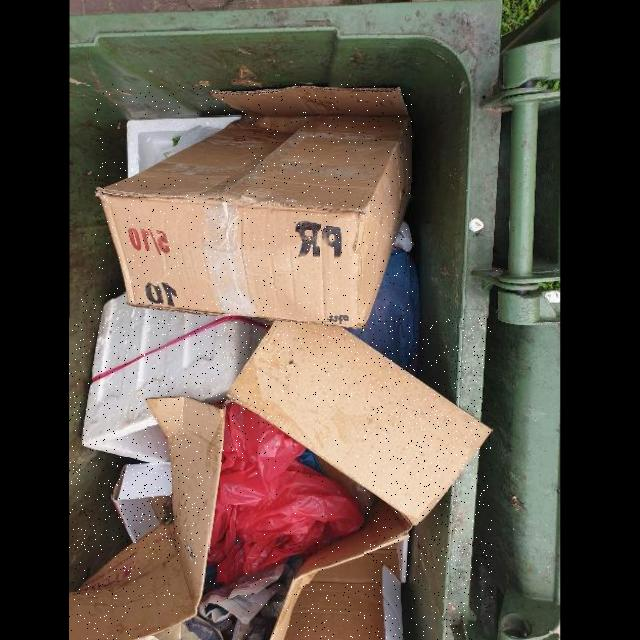paper: (69, 318, 492, 640), (96, 84, 413, 328), (136, 563, 294, 640), (112, 461, 172, 542)
plastic: (209, 401, 364, 584)
styrofoam: (81, 293, 273, 461), (127, 116, 243, 177)
